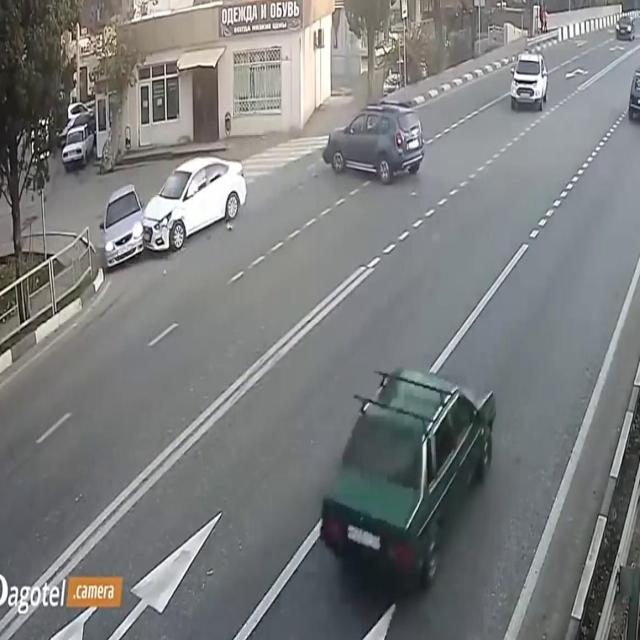accident: (94, 155, 256, 273)
